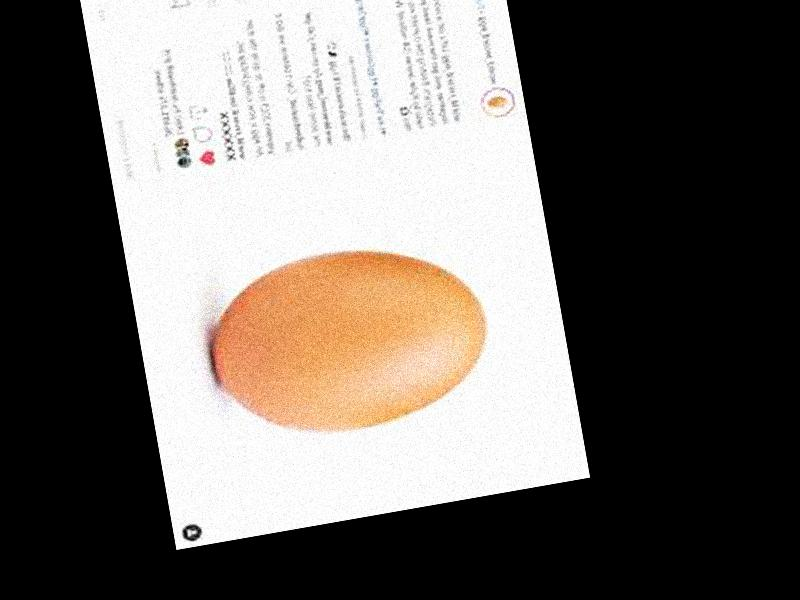Eggs: (201, 229, 498, 450)
